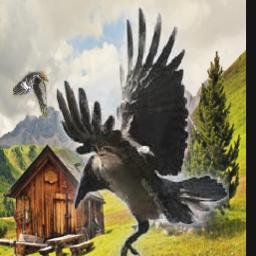Crow: (56, 5, 228, 256)
Woodpecker: (13, 71, 49, 117)
